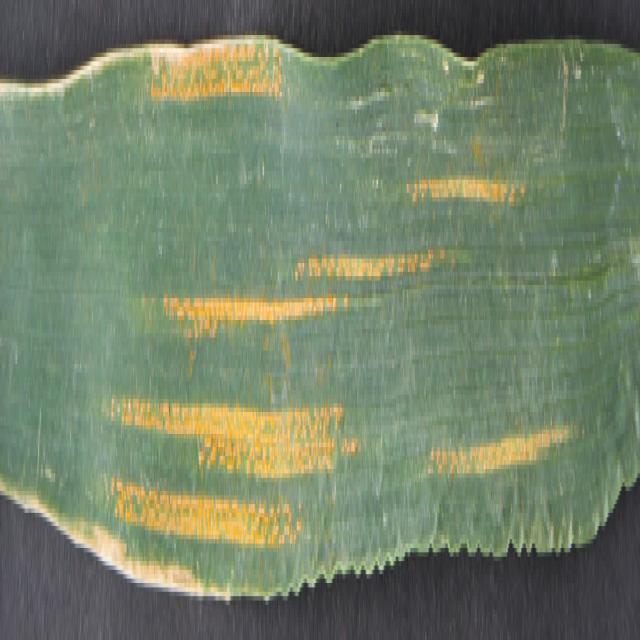leaf rust: (100, 136, 574, 539), (140, 35, 294, 127)
